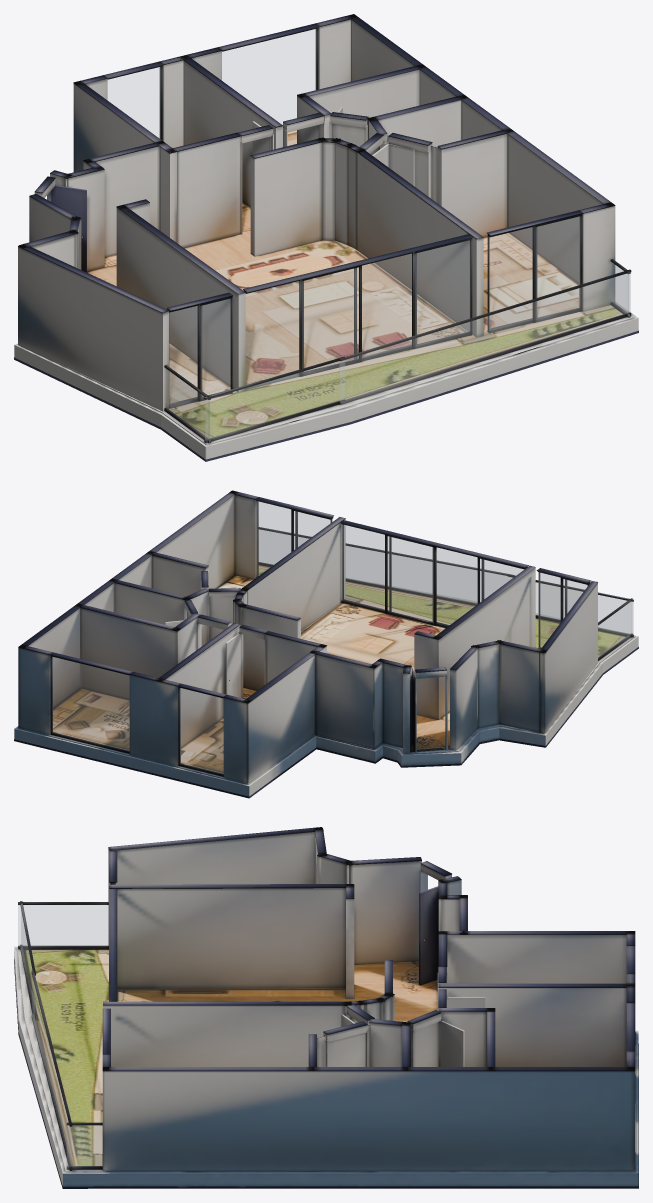
The picture shows the model from 3 angles, top to bottom: view 1: azimuth 30°, elevation 25°; view 2: azimuth 150°, elevation 25°; view 3: azimuth 270°, elevation 25°; orthographic projection. The views are drawn at different scales.
Parts seen in each view (by area): view 1: plan, glass2_m, railg2_m, glass3_m, glass1_m, railg3_m, glass4_m, glass0_m, railg1_m, railg0_m; view 2: plan, glass2_m, glass1_m, railg2_m, glass0_m, glass3_m, railg3_m, glass4_m, railg1_m; view 3: plan, railg1_m, railg0_m, railg2_m.
Part boxes in pixels (x1=…): plan: x1=14, y1=14, x2=638, y2=461; glass2_m: x1=246, y1=240, x2=469, y2=384; railg2_m: x1=339, y1=274, x2=630, y2=401; glass3_m: x1=489, y1=216, x2=579, y2=329; glass1_m: x1=222, y1=29, x2=316, y2=124; railg3_m: x1=205, y1=360, x2=344, y2=439; glass4_m: x1=169, y1=299, x2=230, y2=404; glass0_m: x1=108, y1=67, x2=160, y2=138; railg1_m: x1=165, y1=369, x2=209, y2=439; railg0_m: x1=612, y1=263, x2=629, y2=314; plan: x1=14, y1=490, x2=638, y2=798; glass2_m: x1=342, y1=524, x2=523, y2=625; glass1_m: x1=52, y1=657, x2=129, y2=750; railg2_m: x1=259, y1=530, x2=507, y2=602; glass0_m: x1=180, y1=688, x2=223, y2=773; glass3_m: x1=257, y1=501, x2=330, y2=576; railg3_m: x1=508, y1=577, x2=633, y2=634; glass4_m: x1=538, y1=572, x2=587, y2=648; railg1_m: x1=598, y1=602, x2=631, y2=657; plan: x1=14, y1=827, x2=638, y2=1188; railg1_m: x1=18, y1=905, x2=108, y2=945; railg0_m: x1=67, y1=1125, x2=102, y2=1166; railg2_m: x1=32, y1=978, x2=70, y2=1165.
Size of the model in its own units: 11.92 by 2.62 by 12.76.
2 materials, 1 textured.
